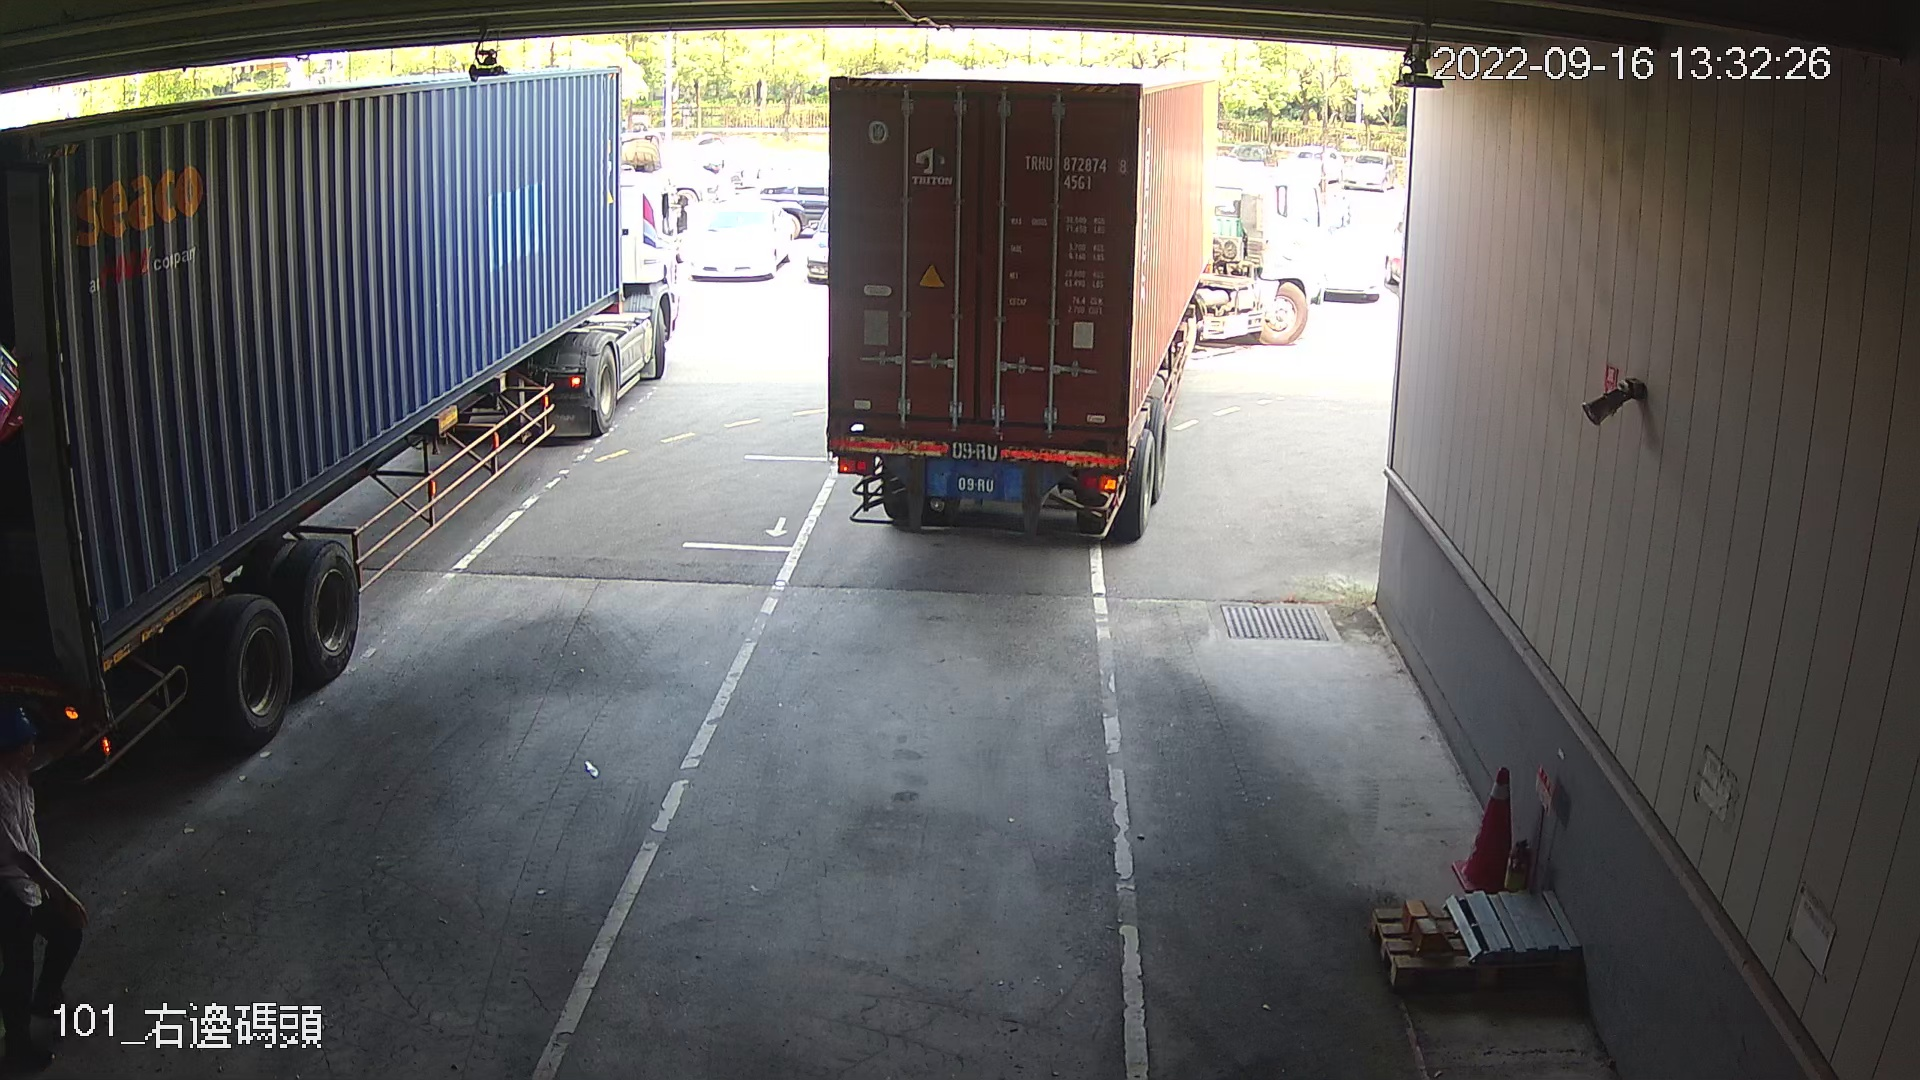container: (1014, 142, 1134, 200)
